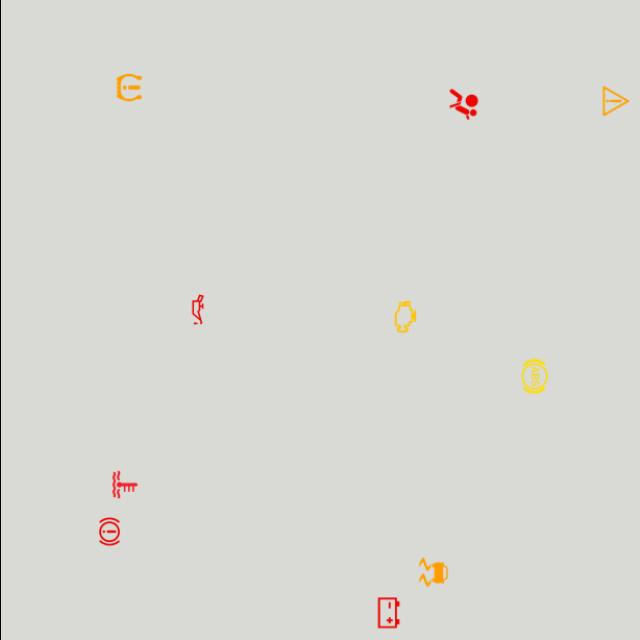Anti Lock Braking System: (514, 358, 552, 396)
Braking System Issue: (90, 512, 128, 550)
Charging System Issue: (369, 594, 407, 632)
Check Engine: (386, 298, 424, 336)
Electronic Stability Problem -ESP-: (414, 553, 452, 591)
Engine Overheating Warning Light: (105, 466, 143, 504)
Low Engine Oil Warning Light: (178, 290, 216, 328)
Low Tire Pressure Warning Light: (109, 68, 147, 106)
Master warning light: (596, 82, 634, 120)
SRS-Airbag: (444, 85, 482, 123)
